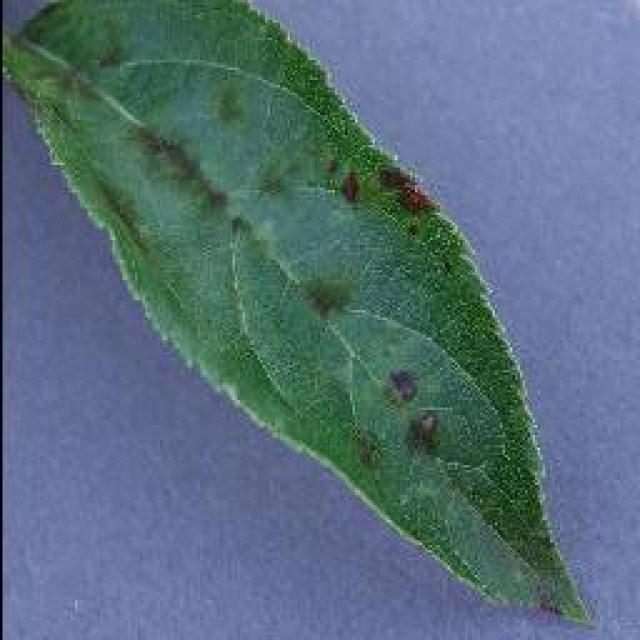Apple___Apple_scab: (0, 0, 602, 628)
